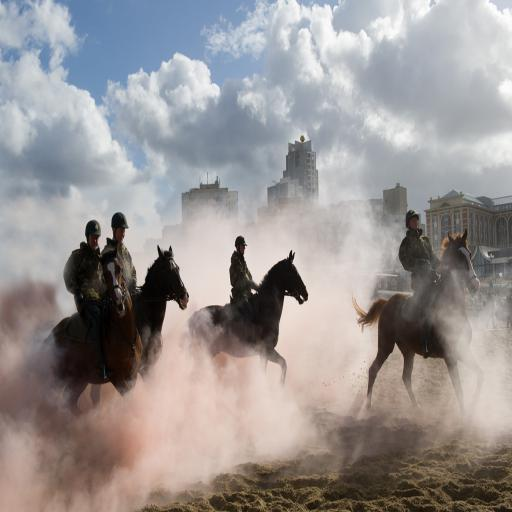horse: (350, 225, 485, 422), (36, 240, 144, 424), (184, 248, 309, 395), (88, 241, 190, 415)
